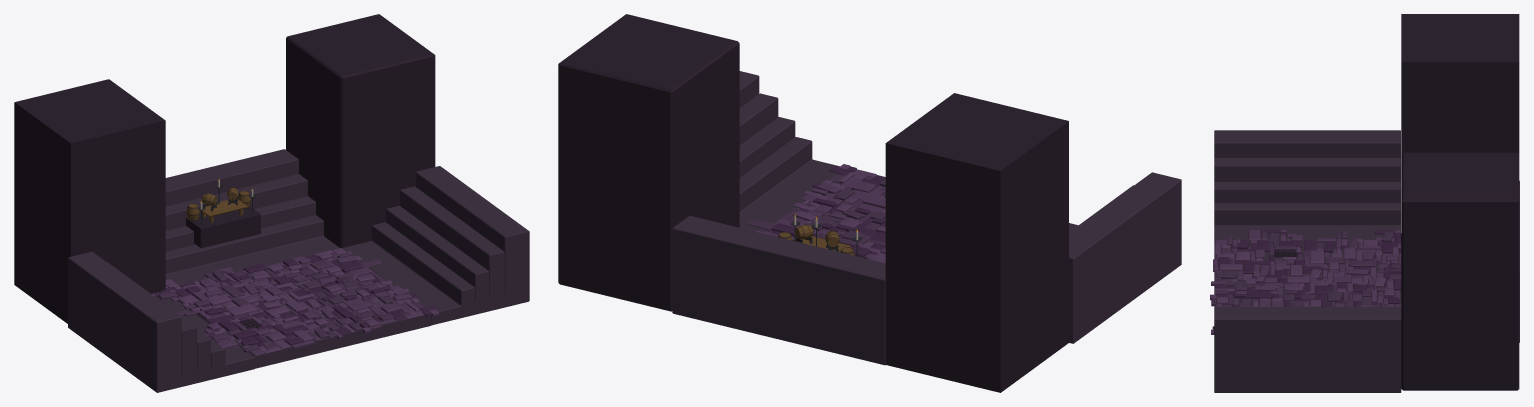
The model's file is Map1.fbx.
3 views of the same model, side by side, from view 1: azimuth 30°, elevation 25°; view 2: azimuth 150°, elevation 25°; view 3: azimuth 270°, elevation 25° (orthographic). The views are drawn at different scales.
Visible parts, largest first — view 1: pCube390, pCube389, pCube386, pCube388, pCube387, pCube17, pCube415; view 2: pCube390, pCube389, pCube387, pCube388, pCube386; view 3: pCube389, pCube388, pCube390, pCube386, pCube17.
Boxes of the visible parts, x1,y1,x2,y2 form: pCube390: (14,79,165,323); pCube389: (286,14,435,247); pCube386: (342,166,529,325); pCube388: (68,251,254,392); pCube387: (165,149,339,285); pCube17: (172,248,431,368); pCube415: (186,206,260,248); pCube390: (885,93,1068,392); pCube389: (558,14,739,311); pCube387: (672,215,885,365); pCube388: (1069,172,1181,343); pCube386: (739,71,839,231); pCube389: (1401,152,1519,390); pCube388: (1214,130,1400,240); pCube390: (1401,14,1519,153); pCube386: (1214,307,1401,392); pCube17: (1214,240,1401,306).
Bounding box in the file's own units: 208 × 105 × 143.
